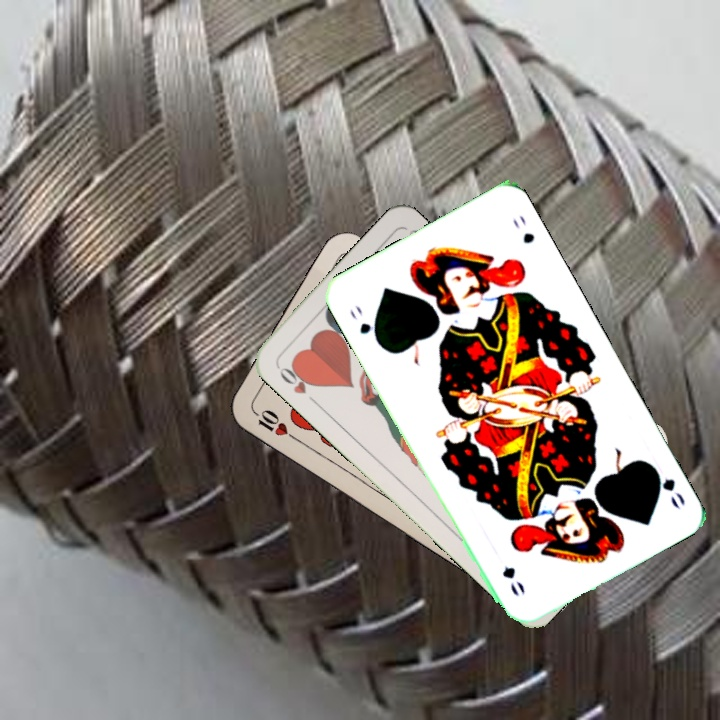GO: (646, 460, 688, 512), (345, 301, 383, 347)
H10: (248, 405, 301, 444)
HO: (273, 359, 321, 407)
